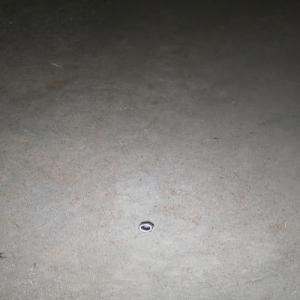Nut: (136, 220, 154, 231)
